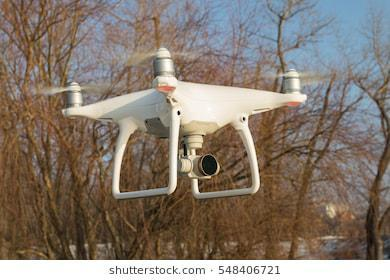drone: (61, 45, 307, 201)
